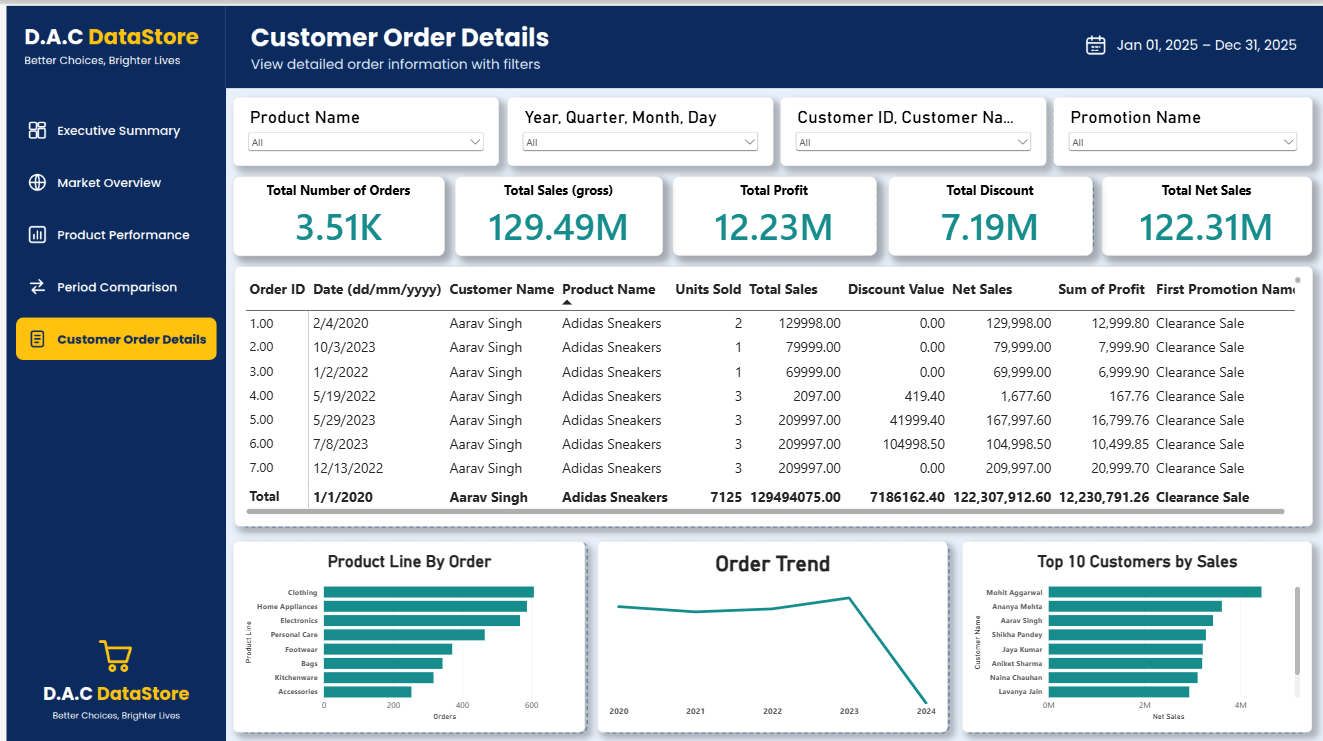

This screenshot's page, from the dashboard's own definition file:
{"tool":"powerbi","page":{"name":"Customer Order Details","canvas":[1920,1080],"ordinal":4},"visuals":[{"type":"image","box":[10,0,1910,1080],"z":0},{"type":"slicer","fields":{"Values":["Dim Product.Product Name"]},"box":[340,135,385,100],"z":1000},{"type":"slicer","fields":{"Values":["Calendar.Date Hierarchy.Year","Calendar.Date Hierarchy.Quarter","Calendar.Date Hierarchy.Month","Calendar.Date Hierarchy.Day"]},"box":[737.5,135,385,100],"z":2000},{"type":"slicer","fields":{"Values":["Dim Customers.Customer ID","Dim Customers.Customer Name"]},"box":[1132.5,135,385,100],"z":3000},{"type":"slicer","fields":{"Values":["Dim Promotion.Promotion Name"]},"box":[1527.5,135,375,100],"z":4000},{"type":"cardVisual","fields":{"Data":["CountNonNull(Fact Table.Order ID)"]},"box":[339.1,250,306.5,115.2],"z":5000},{"type":"cardVisual","fields":{"Data":["Calendar.Total Sales"]},"box":[1598.6,250.5,305.4,114.5],"z":6000},{"type":"cardVisual","fields":{"Data":["Calendar.Total Profit"]},"box":[975.8,250.5,295.9,114.5],"z":7000},{"type":"cardVisual","fields":{"Data":["Sum(Fact Table.Total Sales)"]},"box":[660,250,301,115],"z":8000},{"type":"cardVisual","fields":{"Data":["Sum(Fact Table.Discount Value )"]},"box":[1288.4,250.5,295.9,114.5],"z":9000},{"type":"pivotTable","fields":{"Rows":["Fact Table.Order ID"],"Values":["Min(Fact Table.Date (dd/mm/yyyy))","Min(Dim Customers.Customer Name)","Min(Dim Product.Product Name)","Sum(Fact Table.Units Sold)","Sum(Fact Table.Total Sales)","Sum(Fact Table.Discount)","Sum(Fact Table.Net Sales )","Sum(Fact Table.Profit)","Min(Dim Promotion.Promotion Name)"]},"box":[341.2,379.4,1562.8,377],"z":10000},{"type":"lineChart","title":"Order Trend","fields":{"Category":["Calendar.Date Hierarchy.Year","Calendar.Date Hierarchy.Quarter","Calendar.Date Hierarchy.Month","Calendar.Date Hierarchy.Day"],"Y":["CountNonNull(Fact Table.Order ID)"]},"box":[867.5,777.5,507.5,277.5],"z":11000},{"type":"clusteredBarChart","title":"Top 10 Customers by Sales ","fields":{"Category":["Dim Customers.Customer Name"],"Y":["Sum(Fact Table.Net Sales )"]},"box":[1395,777.5,507.5,277.5],"z":12000},{"type":"clusteredBarChart","title":"Product Line By Order","fields":{"Category":["Dim Product.Product Line"],"Y":["CountNonNull(Fact Table.Order ID)"]},"box":[340,777.5,510,277.5],"z":13000}]}

Visuals, with their boxes on the page's 1920x1080 design canvas (x1, y1, x2, y2). These are canvas units, not pixel positions in the 1323x741 screenshot, which may show the page scaled, cropped or inside an application window:
image: bbox(10, 0, 1920, 1080)
slicer - Dim Product.Product Name: bbox(340, 135, 725, 235)
slicer - Calendar.Date Hierarchy.Year x Calendar.Date Hierarchy.Quarter: bbox(738, 135, 1122, 235)
slicer - Dim Customers.Customer ID x Dim Customers.Customer Name: bbox(1132, 135, 1518, 235)
slicer - Dim Promotion.Promotion Name: bbox(1528, 135, 1902, 235)
cardVisual - CountNonNull(Fact Table.Order ID): bbox(339, 250, 646, 365)
cardVisual - Calendar.Total Sales: bbox(1599, 250, 1904, 365)
cardVisual - Calendar.Total Profit: bbox(976, 250, 1272, 365)
cardVisual - Sum(Fact Table.Total Sales): bbox(660, 250, 961, 365)
cardVisual - Sum(Fact Table.Discount Value ): bbox(1288, 250, 1584, 365)
pivotTable - Fact Table.Order ID x Min(Fact Table.Date (dd/mm/yyyy)): bbox(341, 379, 1904, 756)
"Order Trend" lineChart: bbox(868, 778, 1375, 1055)
"Top 10 Customers by Sales " clusteredBarChart: bbox(1395, 778, 1902, 1055)
"Product Line By Order" clusteredBarChart: bbox(340, 778, 850, 1055)
